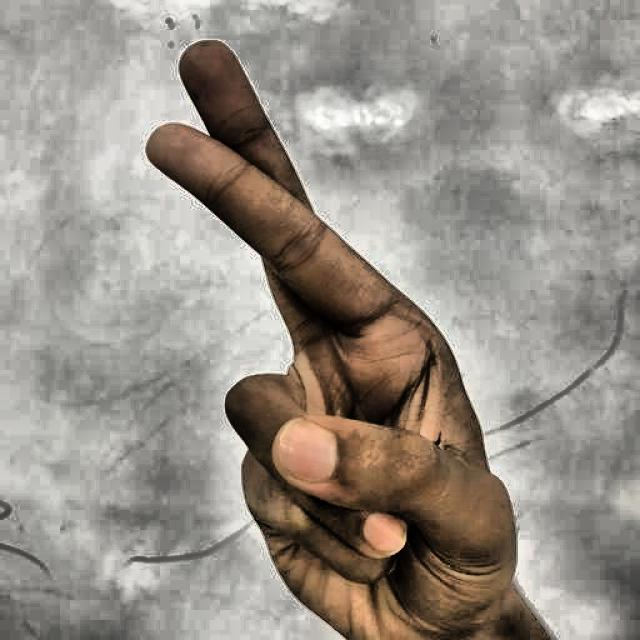Ra: (96, 17, 548, 632)
